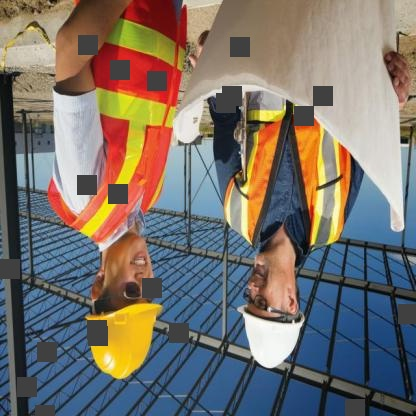vest: (45, 1, 188, 240), (220, 91, 354, 255)
white: (233, 300, 311, 369)
yellow: (82, 296, 168, 381)
